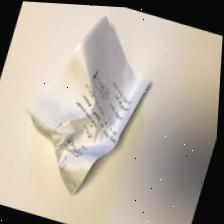paper: (19, 1, 170, 199)
